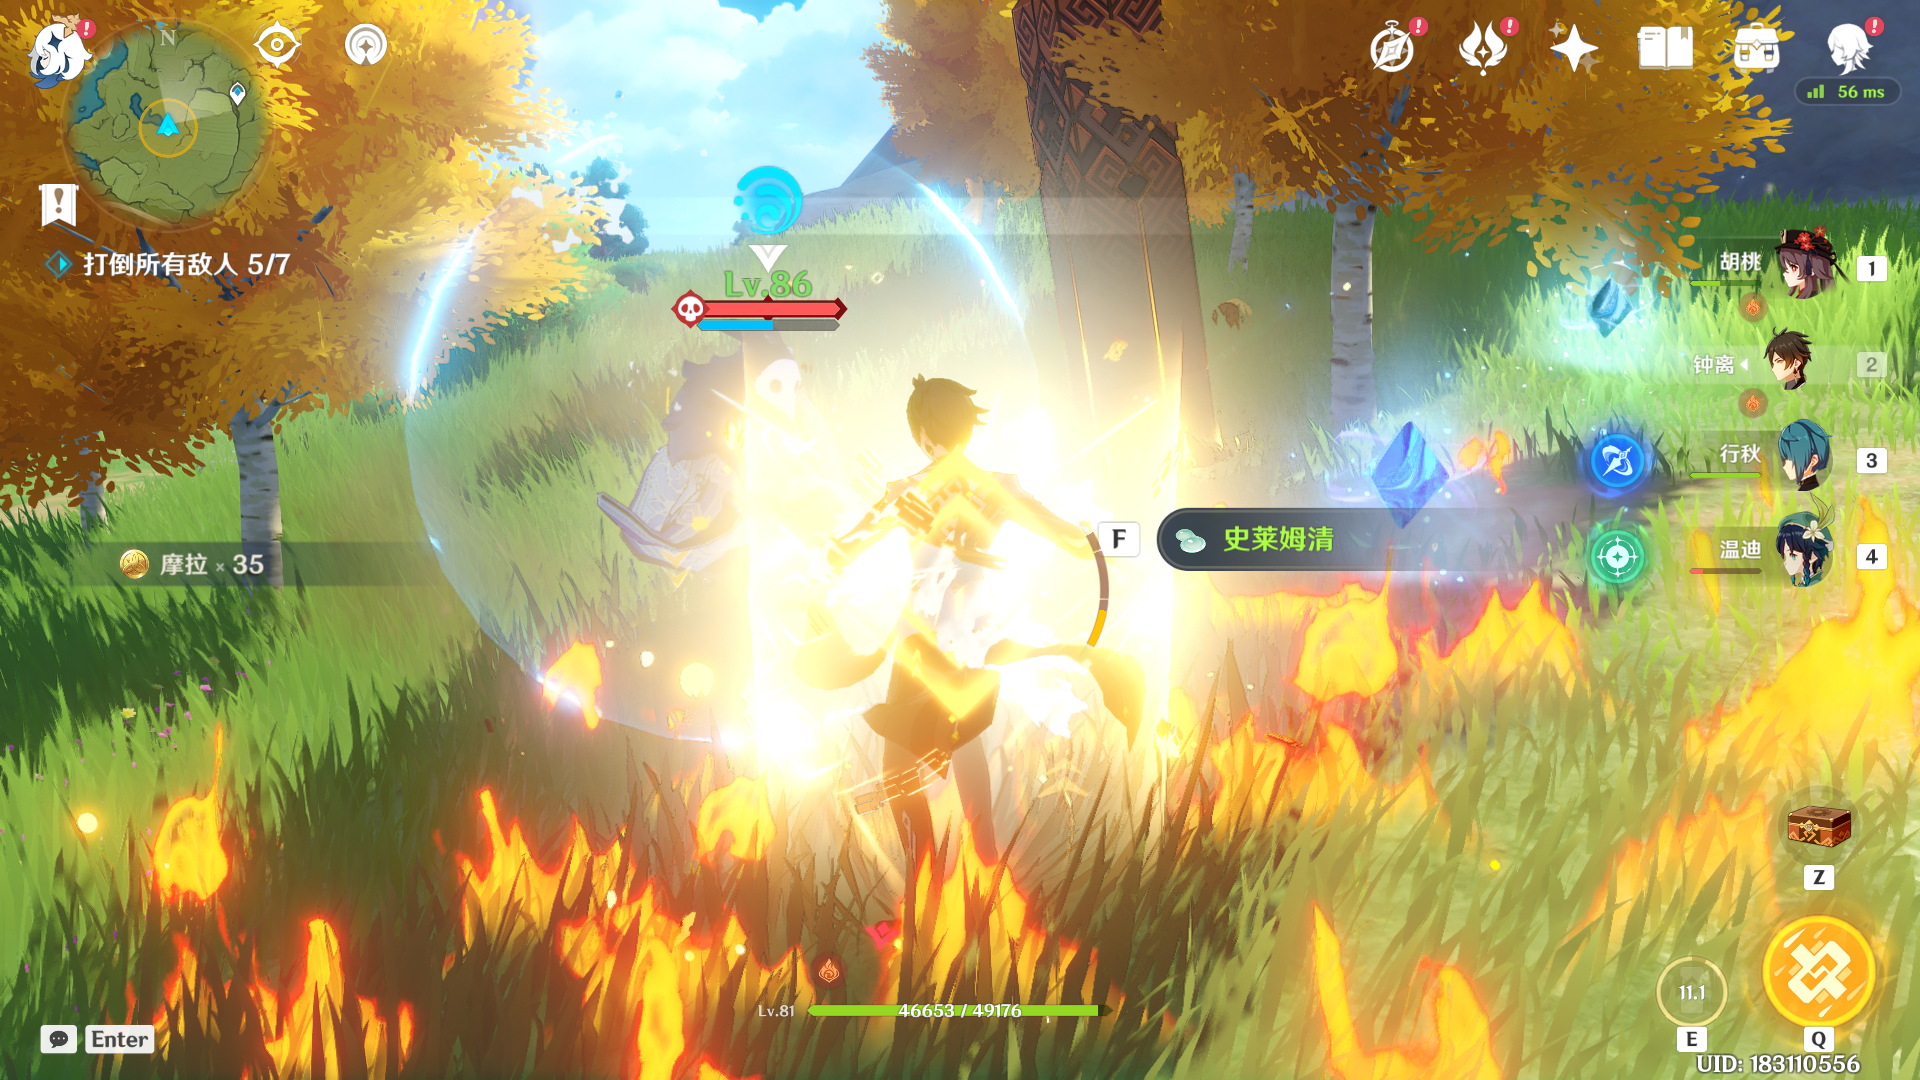caster: (583, 273, 891, 617)
character: (815, 335, 1116, 952)
